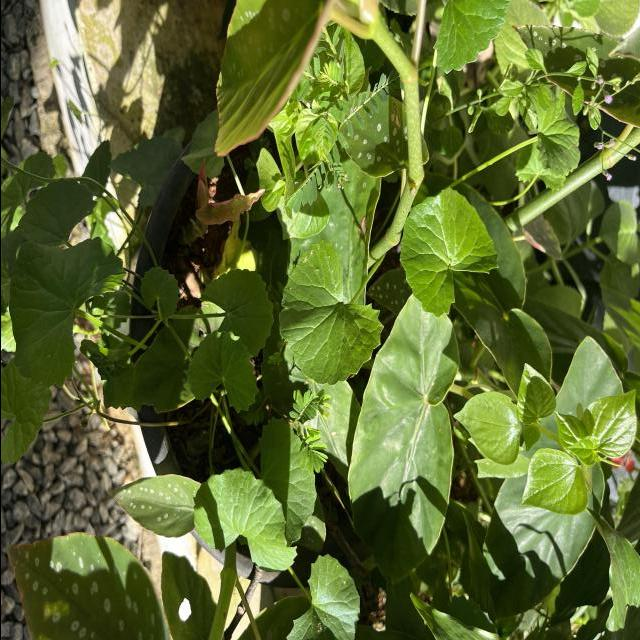Centella asiatica: (5, 233, 128, 391), (276, 238, 386, 388), (394, 182, 500, 321), (190, 464, 299, 582), (196, 266, 276, 364), (182, 328, 260, 417)
